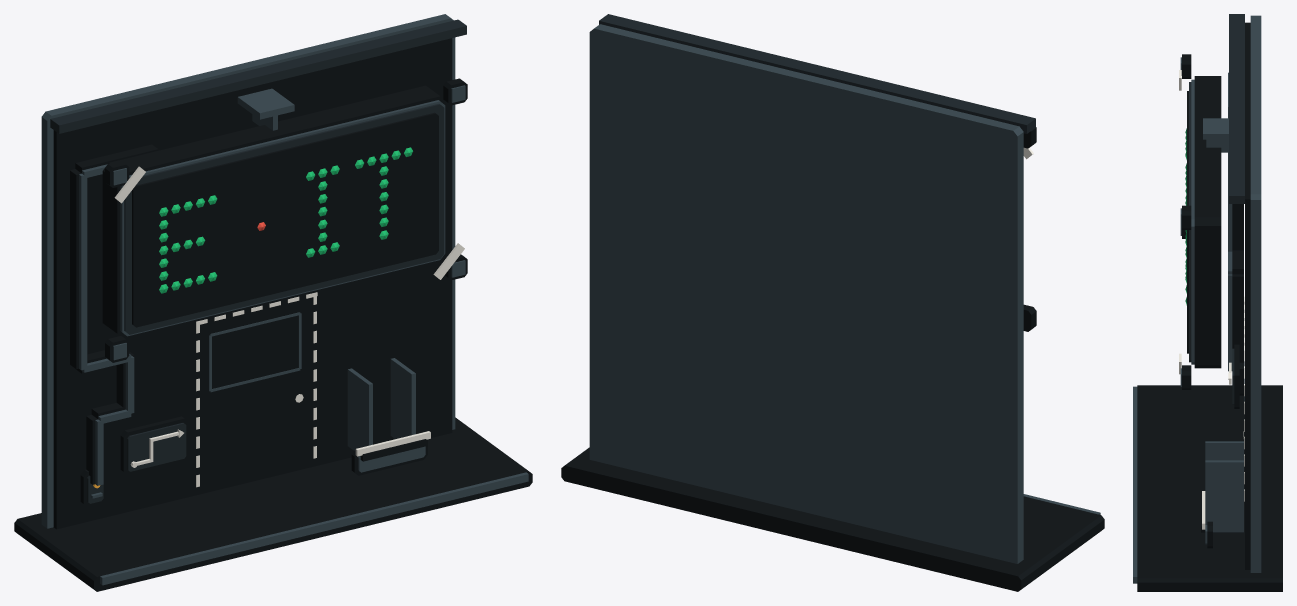
3 views of the same model, side by side, from view 1: azimuth 30°, elevation 25°; view 2: azimuth 150°, elevation 25°; view 3: azimuth 270°, elevation 25° (orthographic). The views are drawn at different scales.
Visible parts, largest first — view 1: Exit Liquidity sign; view 2: Exit Liquidity sign; view 3: Exit Liquidity sign.
Part boxes in pixels (x1,y1,x2,y2): Exit Liquidity sign: [14, 14, 532, 591]; Exit Liquidity sign: [561, 14, 1104, 591]; Exit Liquidity sign: [1133, 14, 1282, 591].
Bounding box in the file's own units: 1.08 × 1 × 0.3475.
